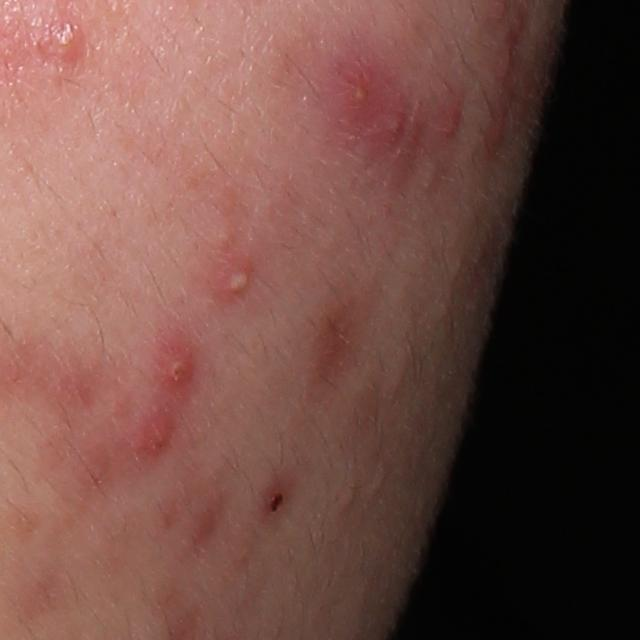papule: (42, 16, 89, 72), (438, 109, 462, 139), (491, 1, 508, 21)
pustule: (338, 68, 380, 118), (219, 261, 258, 298)
